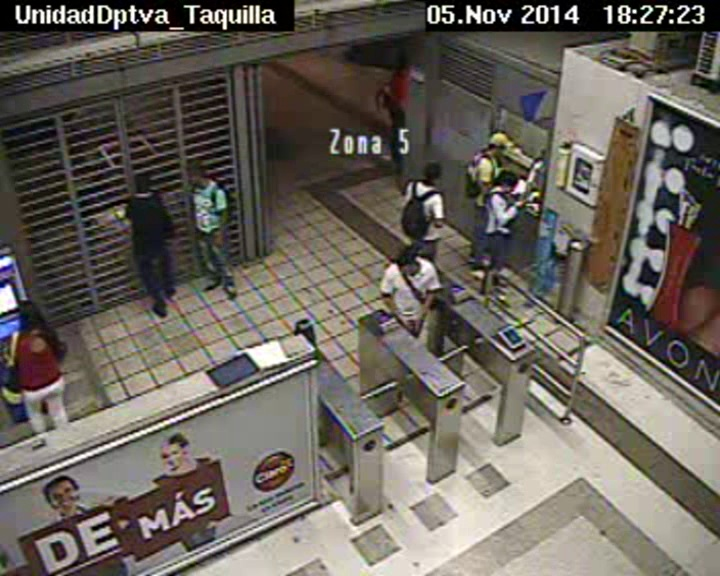person: (390, 243, 420, 275), (179, 161, 211, 191), (14, 300, 45, 330), (419, 156, 446, 186), (492, 165, 519, 194), (485, 130, 511, 158), (128, 171, 155, 196), (393, 60, 411, 79)
